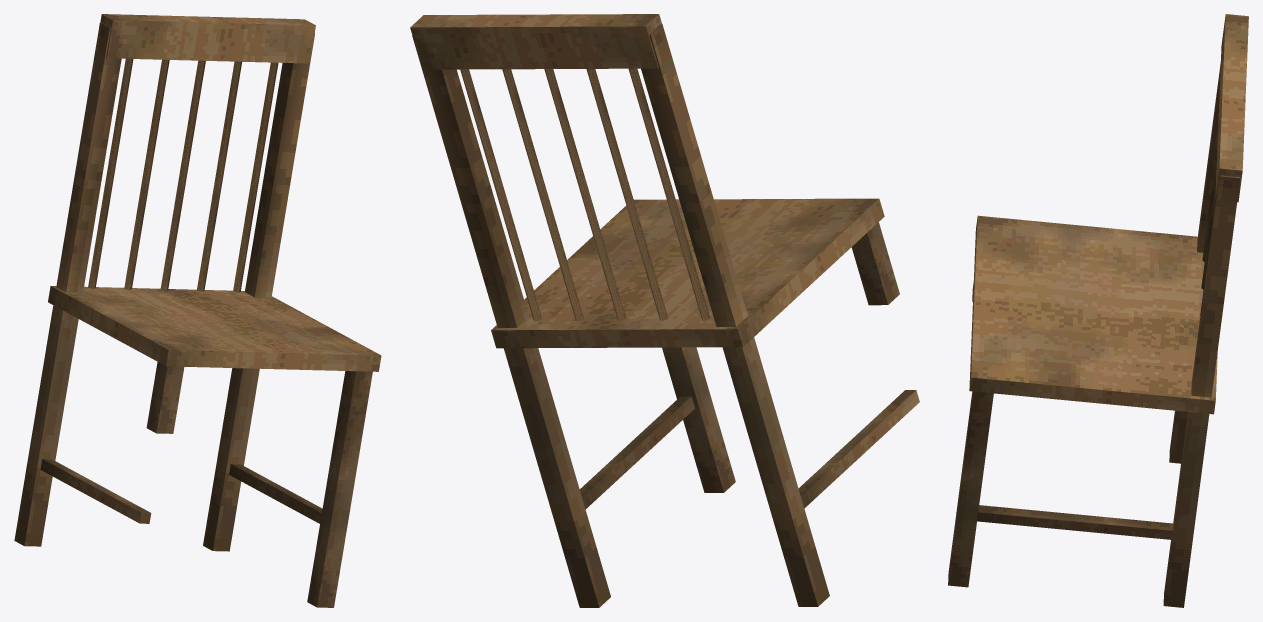
File: chair_broken.glb
3 renders of one model, left to right at view 1: azimuth 30°, elevation 25°; view 2: azimuth 150°, elevation 25°; view 3: azimuth 270°, elevation 25°, orthographic. The views are drawn at different scales.
Visible parts, largest first — view 1: chair_broken; view 2: chair_broken; view 3: chair_broken.
Boxes of the visible parts, box(x1,y1,x2,y2) form: chair_broken: box(14, 14, 381, 607); chair_broken: box(410, 14, 919, 607); chair_broken: box(948, 14, 1248, 607).
Size of the model in its own units: 0.6434 by 1.04 by 0.5138.
1 material, 1 textured.
